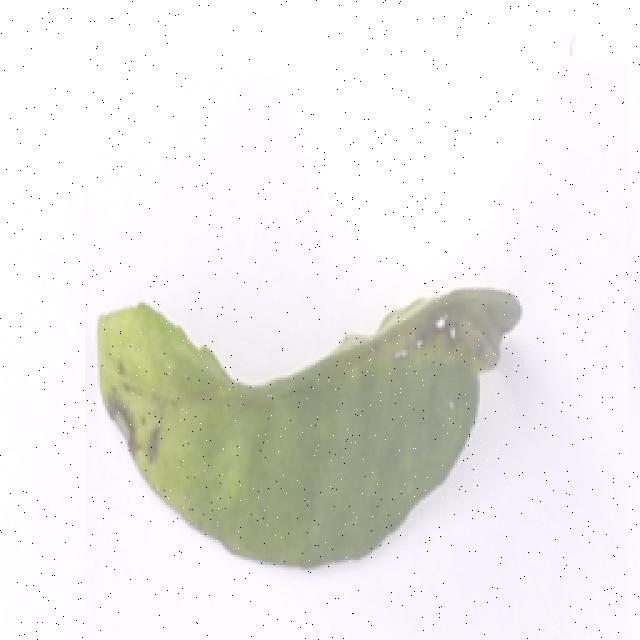greening: (89, 238, 535, 584)
